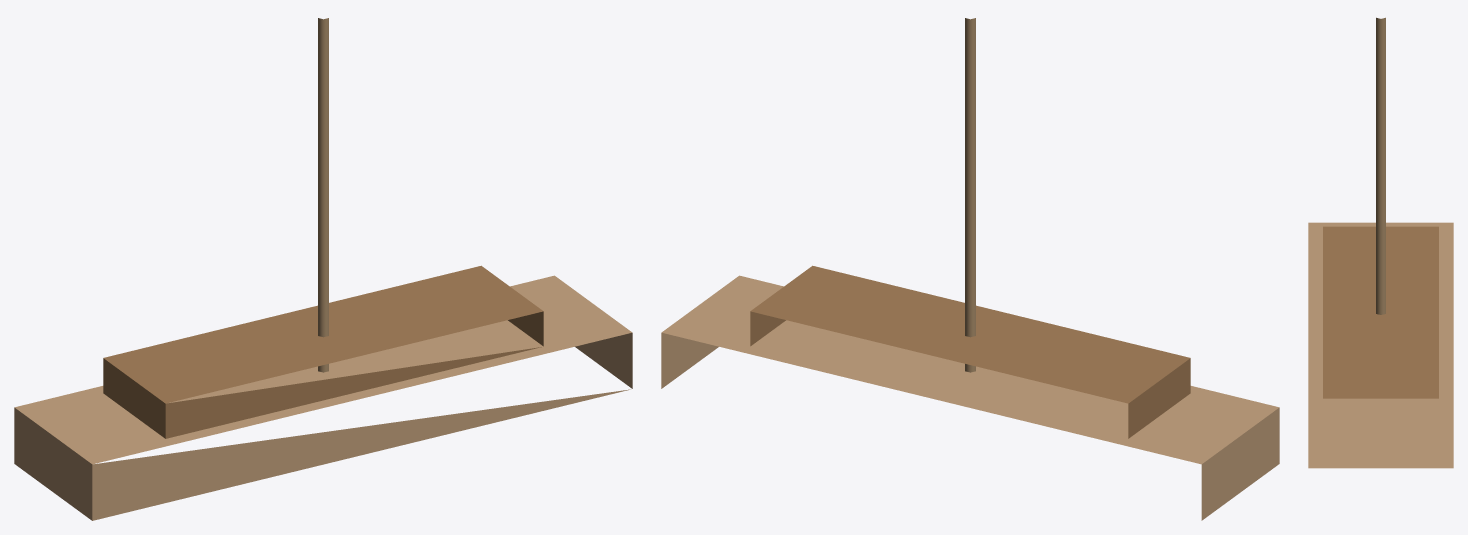
File: ASTX_BOAT_CARGO.glb
3 renders of one model, left to right at view 1: azimuth 30°, elevation 25°; view 2: azimuth 150°, elevation 25°; view 3: azimuth 270°, elevation 25°, orthographic. The views are drawn at different scales.
Visible parts, largest first — view 1: ASTX_BOAT_CARGO_hull, ASTX_BOAT_CARGO_gunwale, ASTX_BOAT_CARGO_mastPIVOT; view 2: ASTX_BOAT_CARGO_hull, ASTX_BOAT_CARGO_gunwale, ASTX_BOAT_CARGO_mastPIVOT; view 3: ASTX_BOAT_CARGO_gunwale, ASTX_BOAT_CARGO_hull, ASTX_BOAT_CARGO_mastPIVOT.
Part boxes in pixels (x1=…): ASTX_BOAT_CARGO_hull: x1=14, y1=275, x2=632, y2=520; ASTX_BOAT_CARGO_gunwale: x1=103, y1=265, x2=543, y2=438; ASTX_BOAT_CARGO_mastPIVOT: x1=318, y1=18, x2=328, y2=372; ASTX_BOAT_CARGO_hull: x1=661, y1=275, x2=1279, y2=520; ASTX_BOAT_CARGO_gunwale: x1=750, y1=265, x2=1190, y2=438; ASTX_BOAT_CARGO_mastPIVOT: x1=965, y1=18, x2=975, y2=372; ASTX_BOAT_CARGO_gunwale: x1=1323, y1=226, x2=1438, y2=398; ASTX_BOAT_CARGO_hull: x1=1308, y1=222, x2=1453, y2=468; ASTX_BOAT_CARGO_mastPIVOT: x1=1376, y1=17, x2=1385, y2=314.
Bounding box in the file's own units: 8 × 5.8 × 2.
